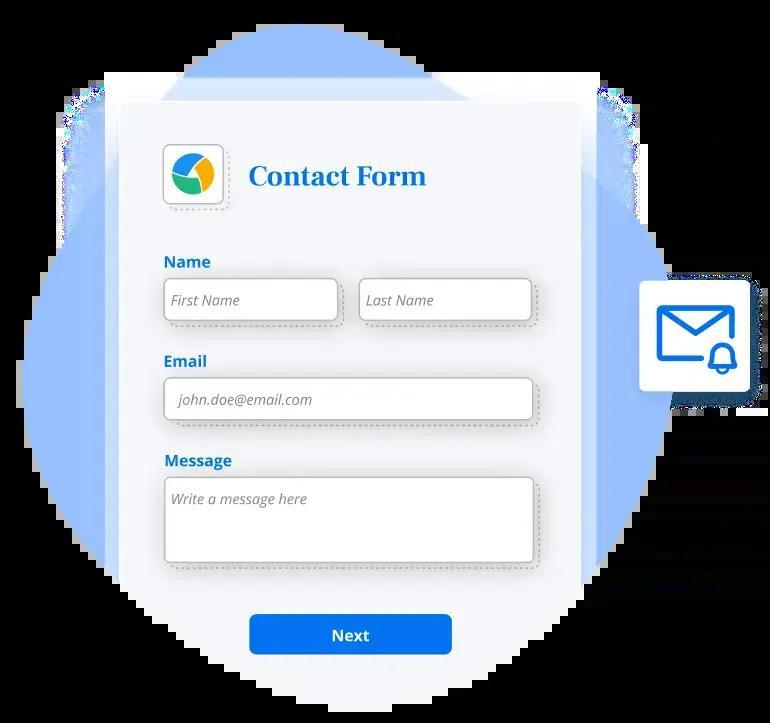button: (249, 615, 454, 655)
input: (164, 377, 534, 422), (359, 278, 534, 323), (166, 279, 337, 321)
label: (165, 451, 236, 469), (165, 354, 212, 370), (163, 256, 213, 271)
